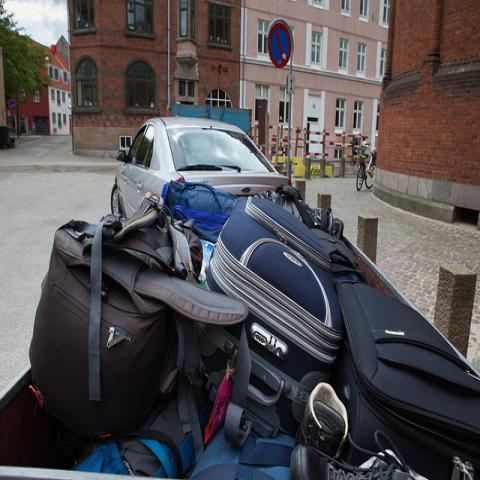car: (110, 115, 292, 219)
